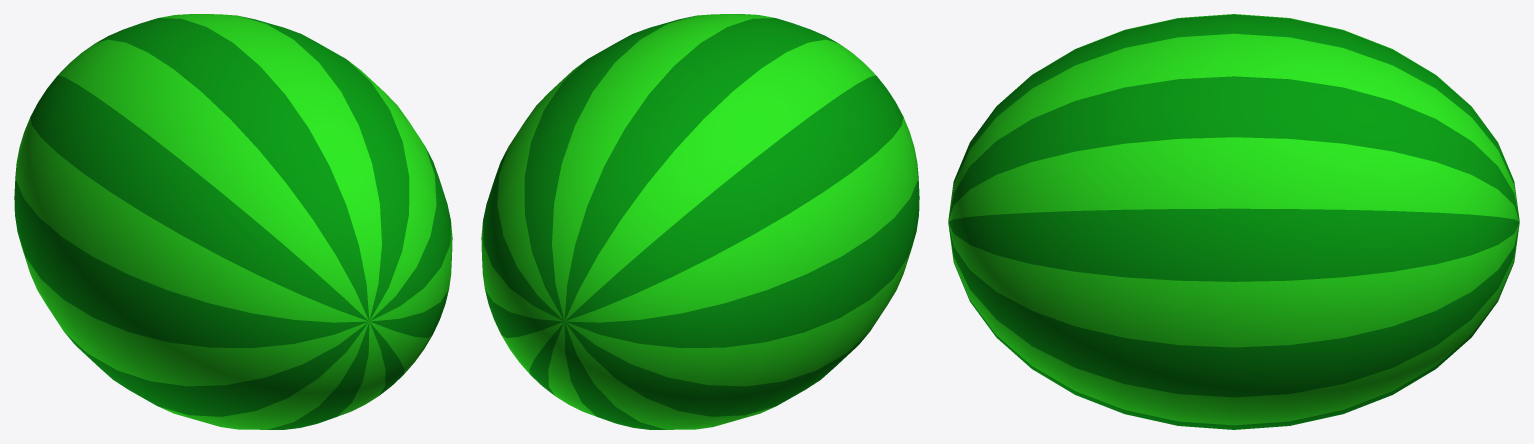
The model's file is watermelon.fbx.
3 renders of one model, left to right at view 1: azimuth 30°, elevation 25°; view 2: azimuth 150°, elevation 25°; view 3: azimuth 270°, elevation 25°, orthographic. The views are drawn at different scales.
Parts seen in each view (by area): view 1: watermelon; view 2: watermelon; view 3: watermelon.
Part boxes in pixels (bbox=[...]): watermelon: bbox=[14, 14, 452, 429]; watermelon: bbox=[481, 14, 919, 429]; watermelon: bbox=[948, 14, 1519, 429].
Bounding box in the file's own units: 1494 × 1478 × 2036.
